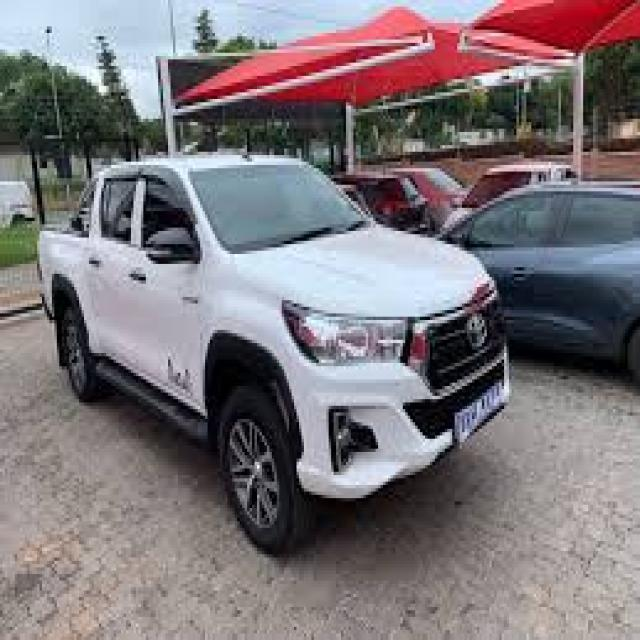Pickup Trucks: (35, 148, 514, 561)
